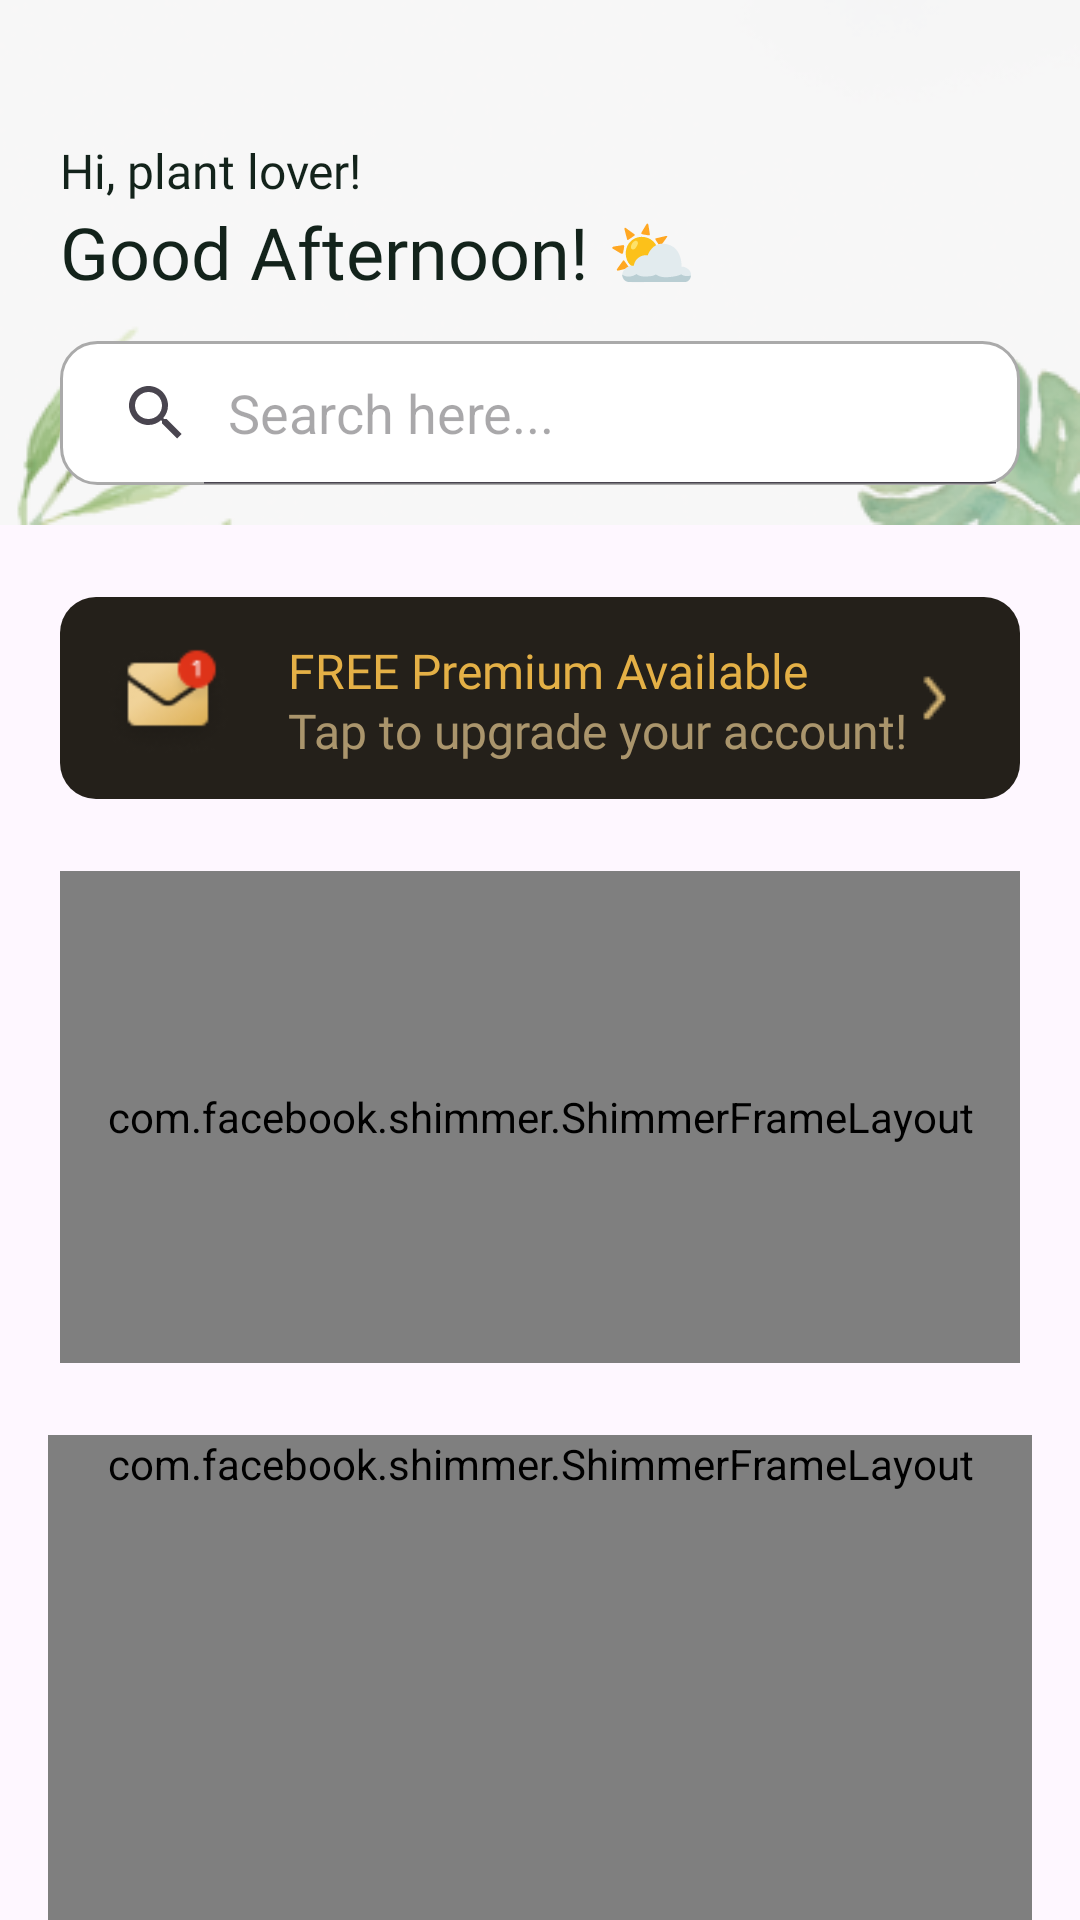

Icon bounding boxes for this 1080w x 1920h phone screenshot, format (x1, y1, x2, y2):
mail: (127, 650, 216, 726)
right: (923, 676, 946, 720)
